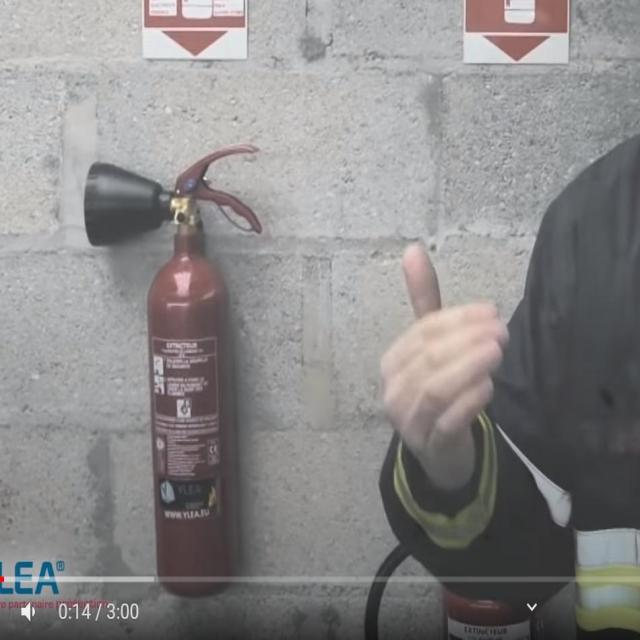fire_extinguisher: (70, 133, 270, 607), (356, 434, 553, 639)
